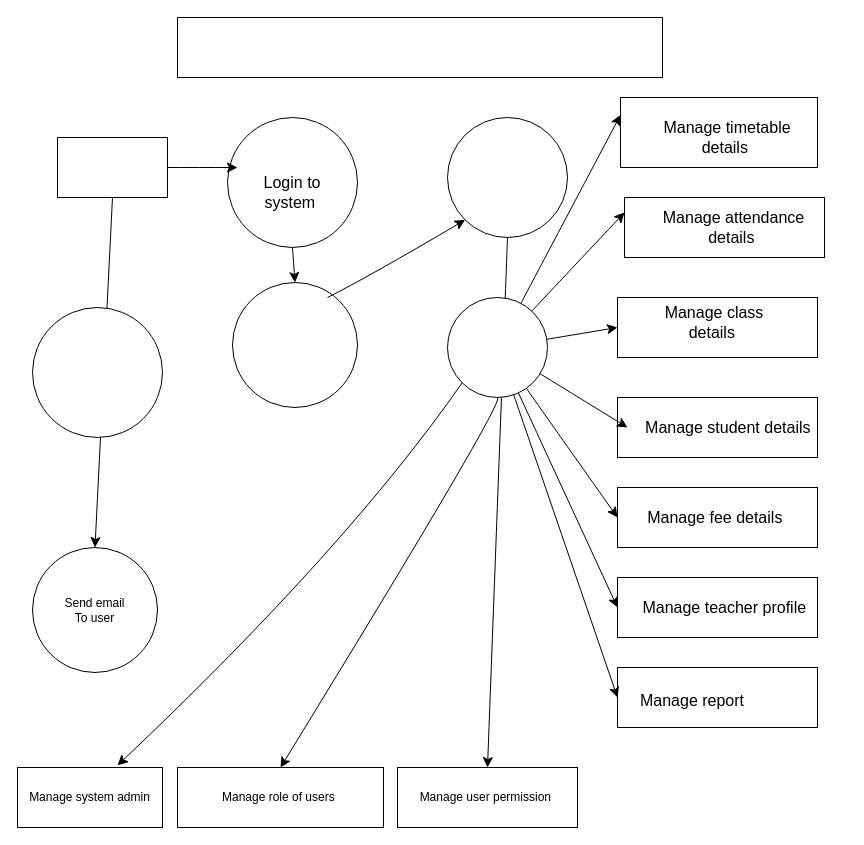
This 864x845 diagram has some shape labels left out. The shapes that lost their labels are listed below. From the top down, each one's centre as x and y in pixels, then its label:
the point at 419,47: Student information system
the point at 112,167: Admin
the point at 507,177: Check roles to access
the point at 295,345: Check credential
the point at 497,347: Manage modules
the point at 97,372: Forget password
